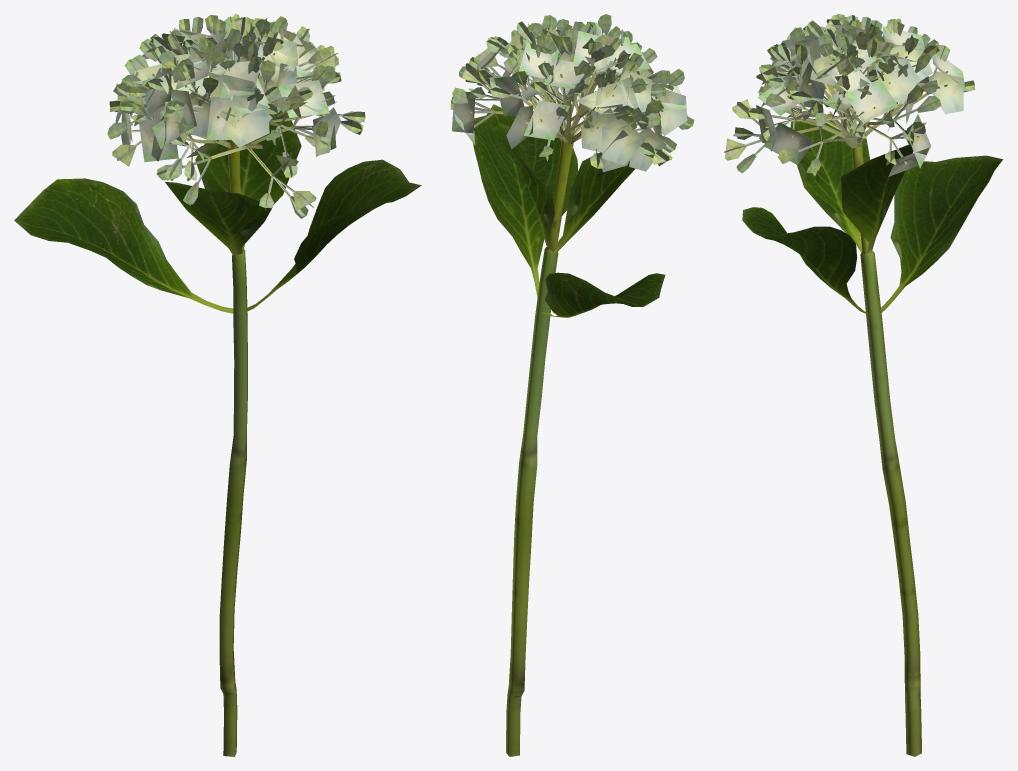
Rendered from Hydrangea_baby_short_greenyellow.glb.
The picture shows the model from 3 angles, left to right: view 1: azimuth 30°, elevation 25°; view 2: azimuth 150°, elevation 25°; view 3: azimuth 270°, elevation 25°; orthographic projection. The views are drawn at different scales.
Visible parts, largest first — view 1: BABY; view 2: BABY; view 3: BABY.
Boxes of the visible parts, bbox=[...] form: BABY: bbox=[14, 14, 421, 756]; BABY: bbox=[450, 14, 694, 756]; BABY: bbox=[724, 14, 1003, 756].
Size of the model in its own units: 0.7928 by 2.03 by 0.7195.
1 material, 1 textured.
